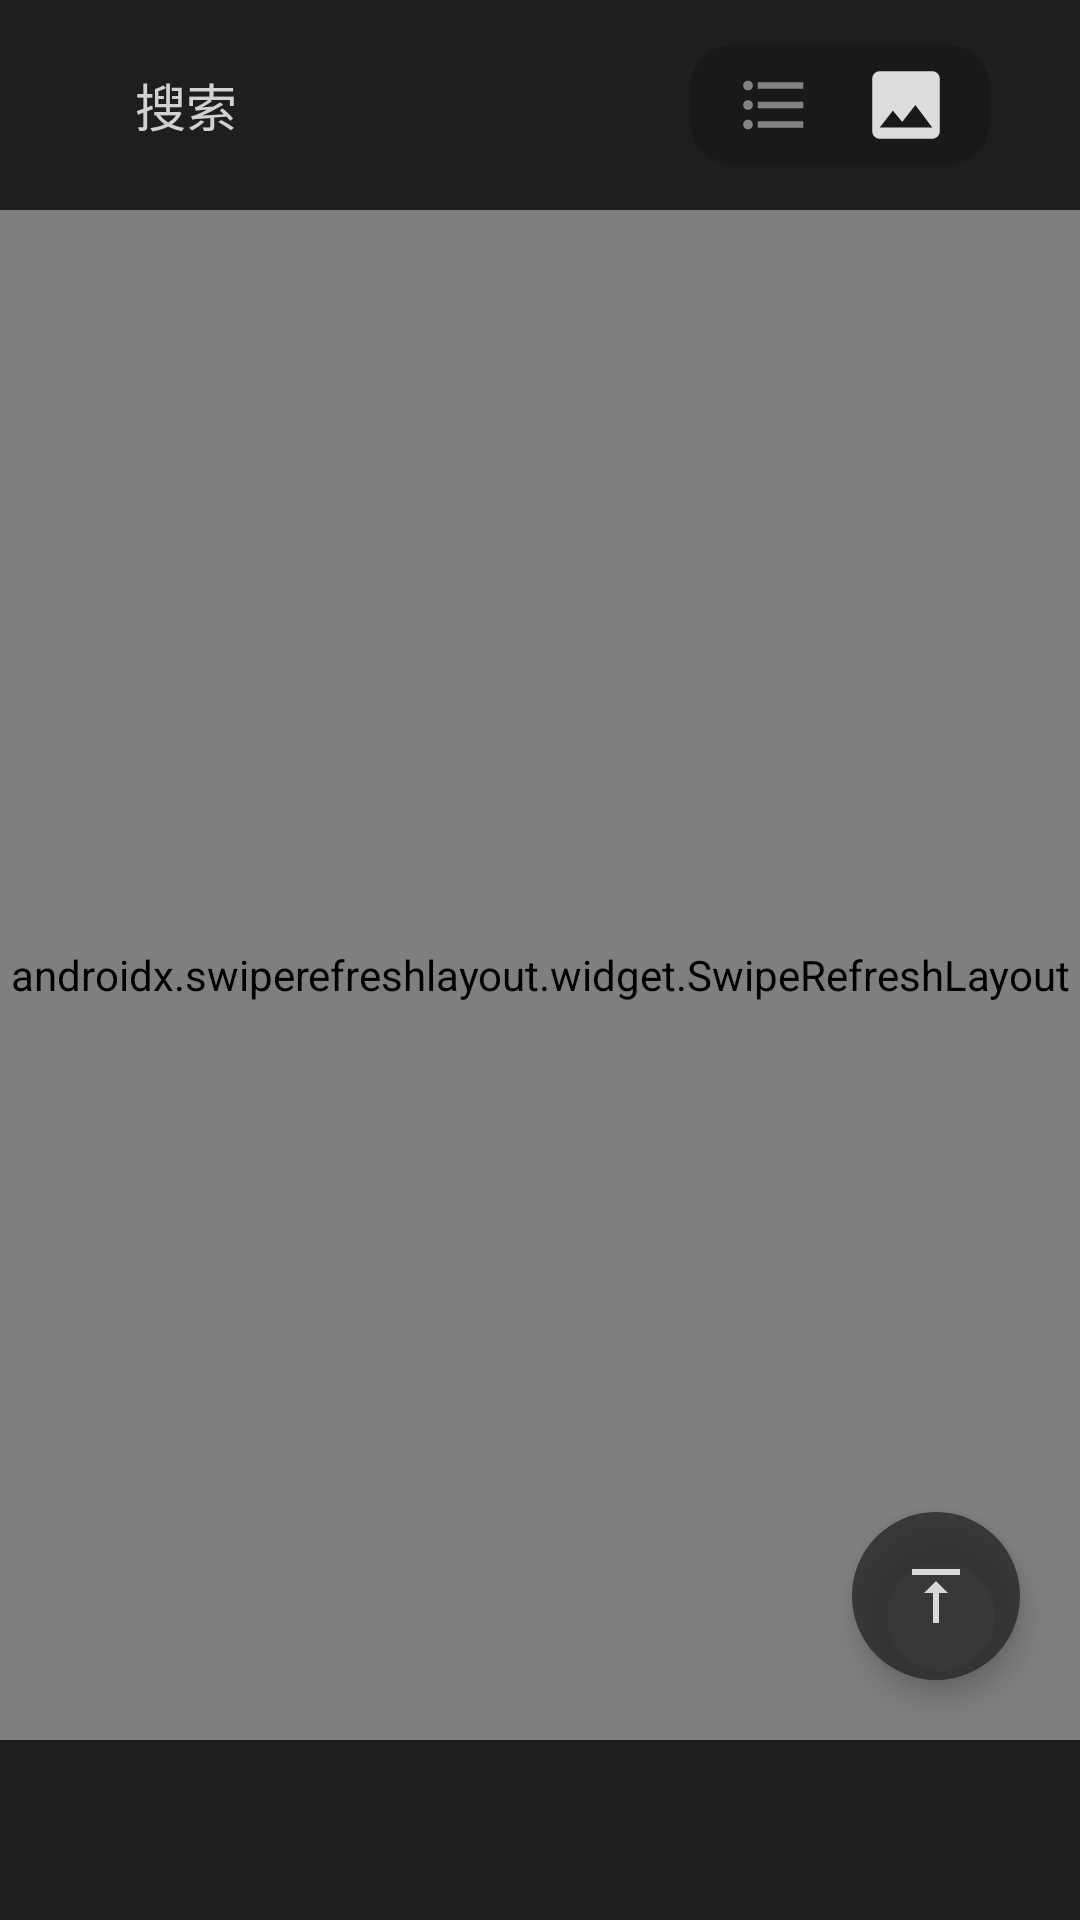

Where to tap for icons on this 1080px x 1920px app screen, as (x=x, y=y):
list: (x=773, y=105)
photo: (x=906, y=105)
top: (x=936, y=1596)
